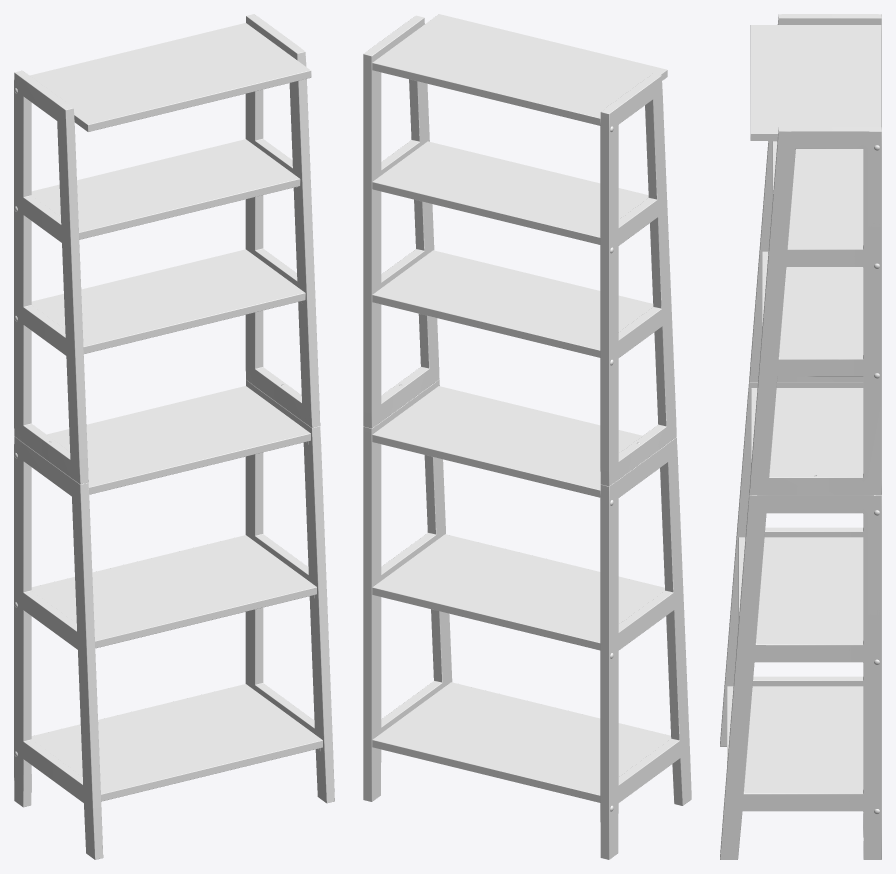
The model's file is abo-B07PNHSR4G.glb.
3 renders of one model, left to right at view 1: azimuth 30°, elevation 25°; view 2: azimuth 150°, elevation 25°; view 3: azimuth 270°, elevation 25°, orthographic. The views are drawn at different scales.
Bounding box in the file's own units: 0.66 × 1.89 × 0.381.
Materials: 1 (1 with a texture image).
